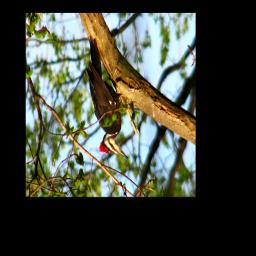Woodpecker: (85, 35, 131, 162)
